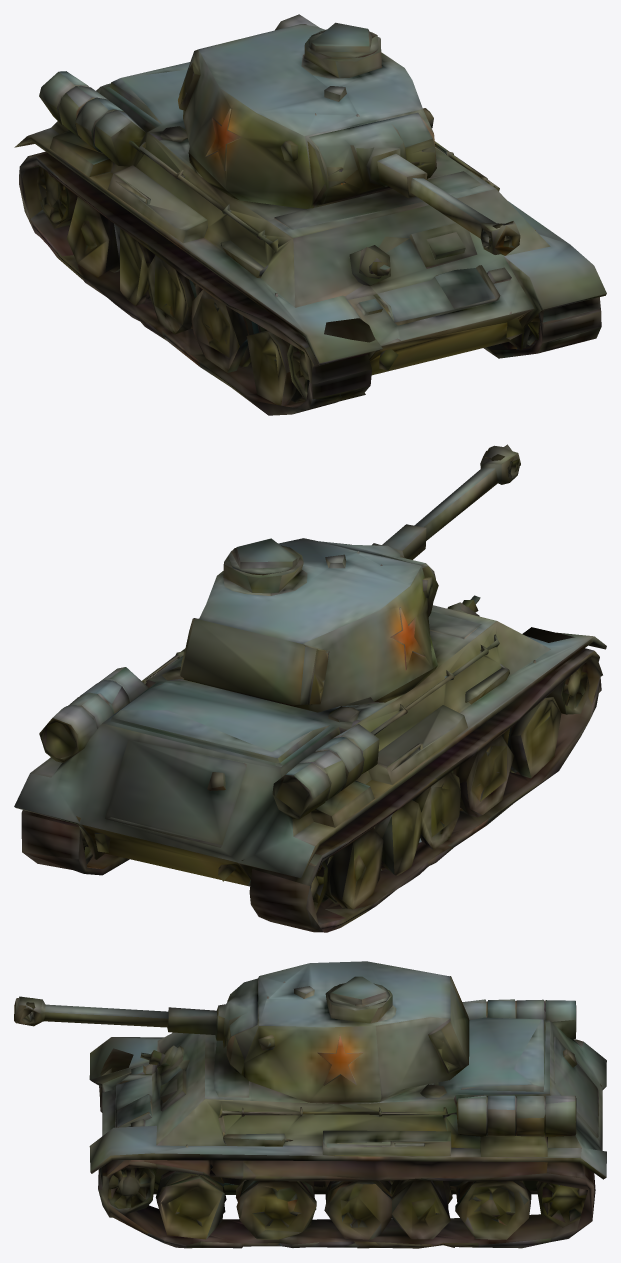
File: tank4_opt.glb
The picture shows the model from 3 angles, top to bottom: view 1: azimuth 30°, elevation 25°; view 2: azimuth 150°, elevation 25°; view 3: azimuth 270°, elevation 25°; orthographic projection. The views are drawn at different scales.
Parts seen in each view (by area): view 1: node_0; view 2: node_0; view 3: node_0.
Boxes of the visible parts, left/top/right/bottom form: node_0: left=14, top=14, right=606, bottom=415; node_0: left=14, top=444, right=606, bottom=932; node_0: left=14, top=961, right=606, bottom=1248.
Bounding box in the file's own units: 0.5181 × 0.4378 × 1.08.
Materials: 1 (1 with a texture image).
